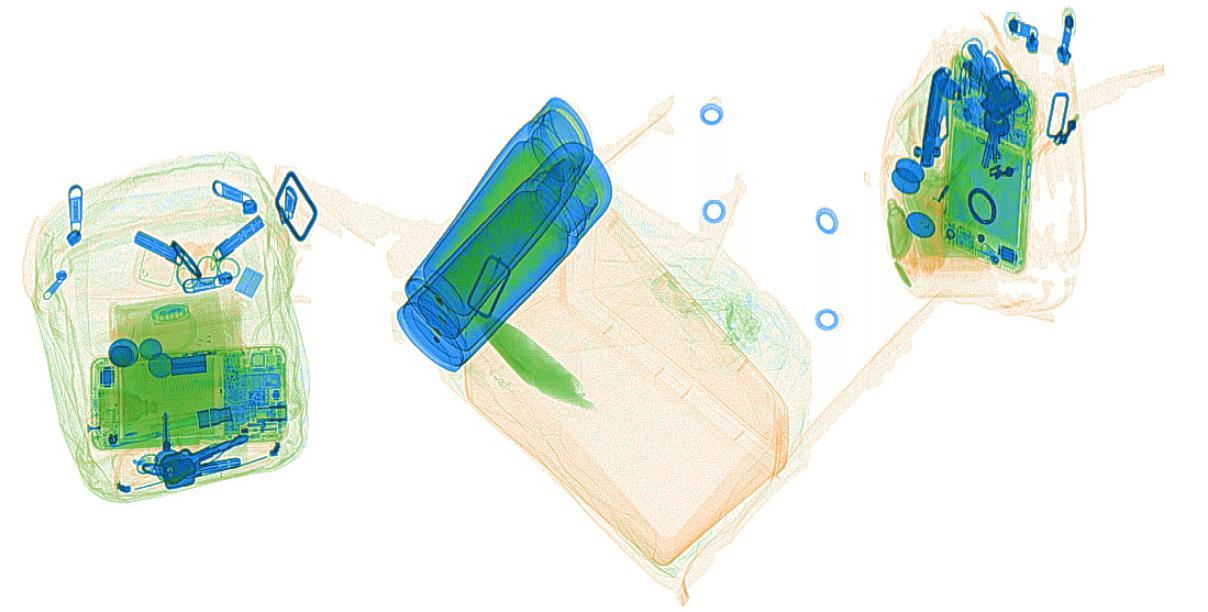knife: (918, 65, 952, 168)
